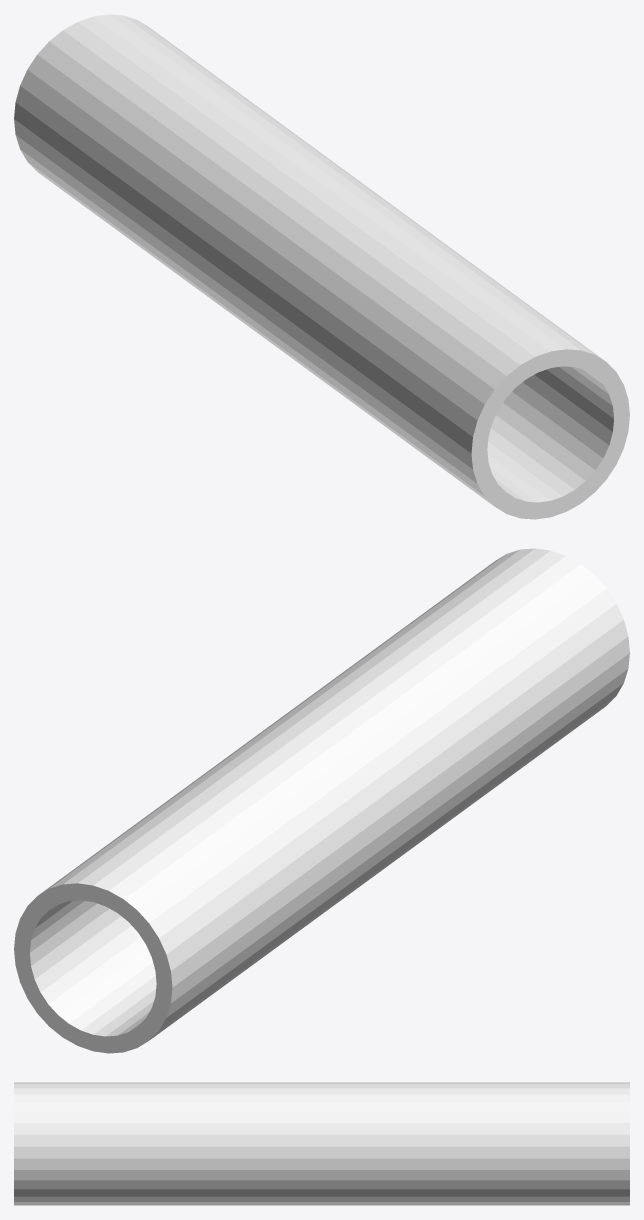
3 renders of one model, top to bottom at view 1: azimuth 30°, elevation 25°; view 2: azimuth 150°, elevation 25°; view 3: azimuth 270°, elevation 25°, orthographic. The views are drawn at different scales.
Parts seen in each view (by area): view 1: 円柱; view 2: 円柱; view 3: 円柱.
Part boxes in pixels (x1,y1,x2,y2): 円柱: (14, 14, 629, 519); 円柱: (14, 548, 629, 1053); 円柱: (14, 1082, 629, 1205).
Size of the model in its own units: 20 by 20 by 100.
Materials: 1 (1 with a texture image).
